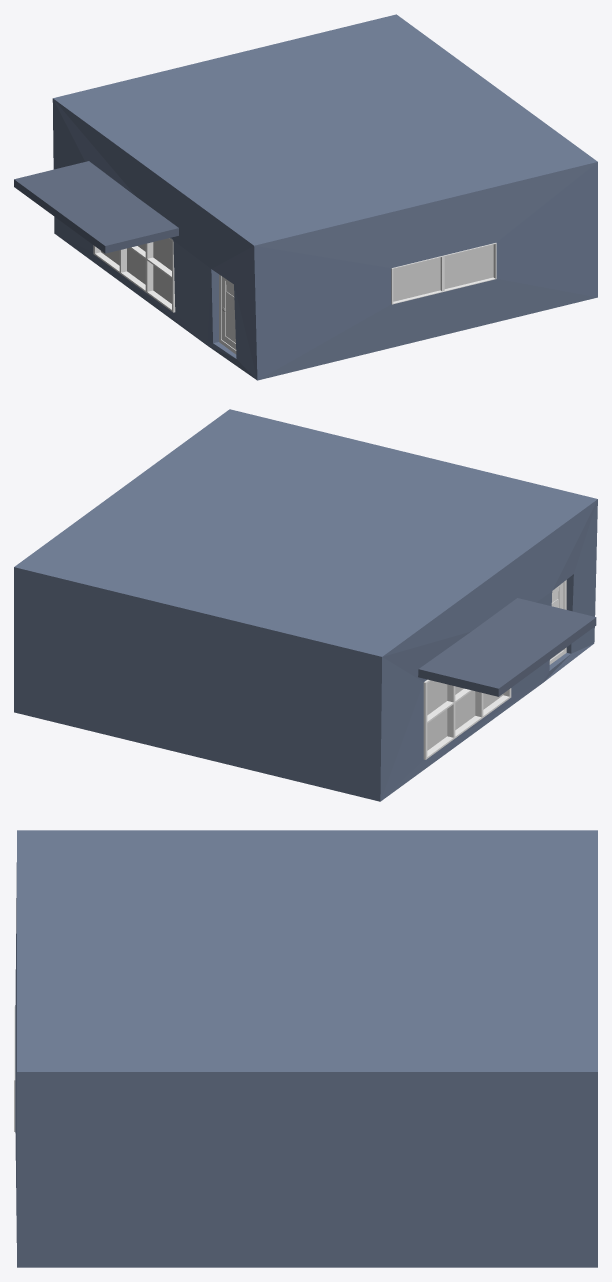
The model's file is House_3.fbx.
3 renders of one model, top to bottom at view 1: azimuth 30°, elevation 25°; view 2: azimuth 150°, elevation 25°; view 3: azimuth 270°, elevation 25°, orthographic. The views are drawn at different scales.
Parts seen in each view (by area): view 1: House_3_Body, House_3_Window.001, House_3_Window, House_3_Door.001; view 2: House_3_Body, House_3_Window; view 3: House_3_Body.
Boxes of the visible parts, x1,y1,x2,y2 form: House_3_Body: (14,14,597,380); House_3_Window.001: (393,244,493,301); House_3_Window: (101,238,171,303); House_3_Door.001: (219,274,236,354); House_3_Body: (14,409,597,801); House_3_Window: (427,680,503,750); House_3_Body: (14,830,597,1267).
Bounding box in the file's own units: 1104 × 344 × 927.
